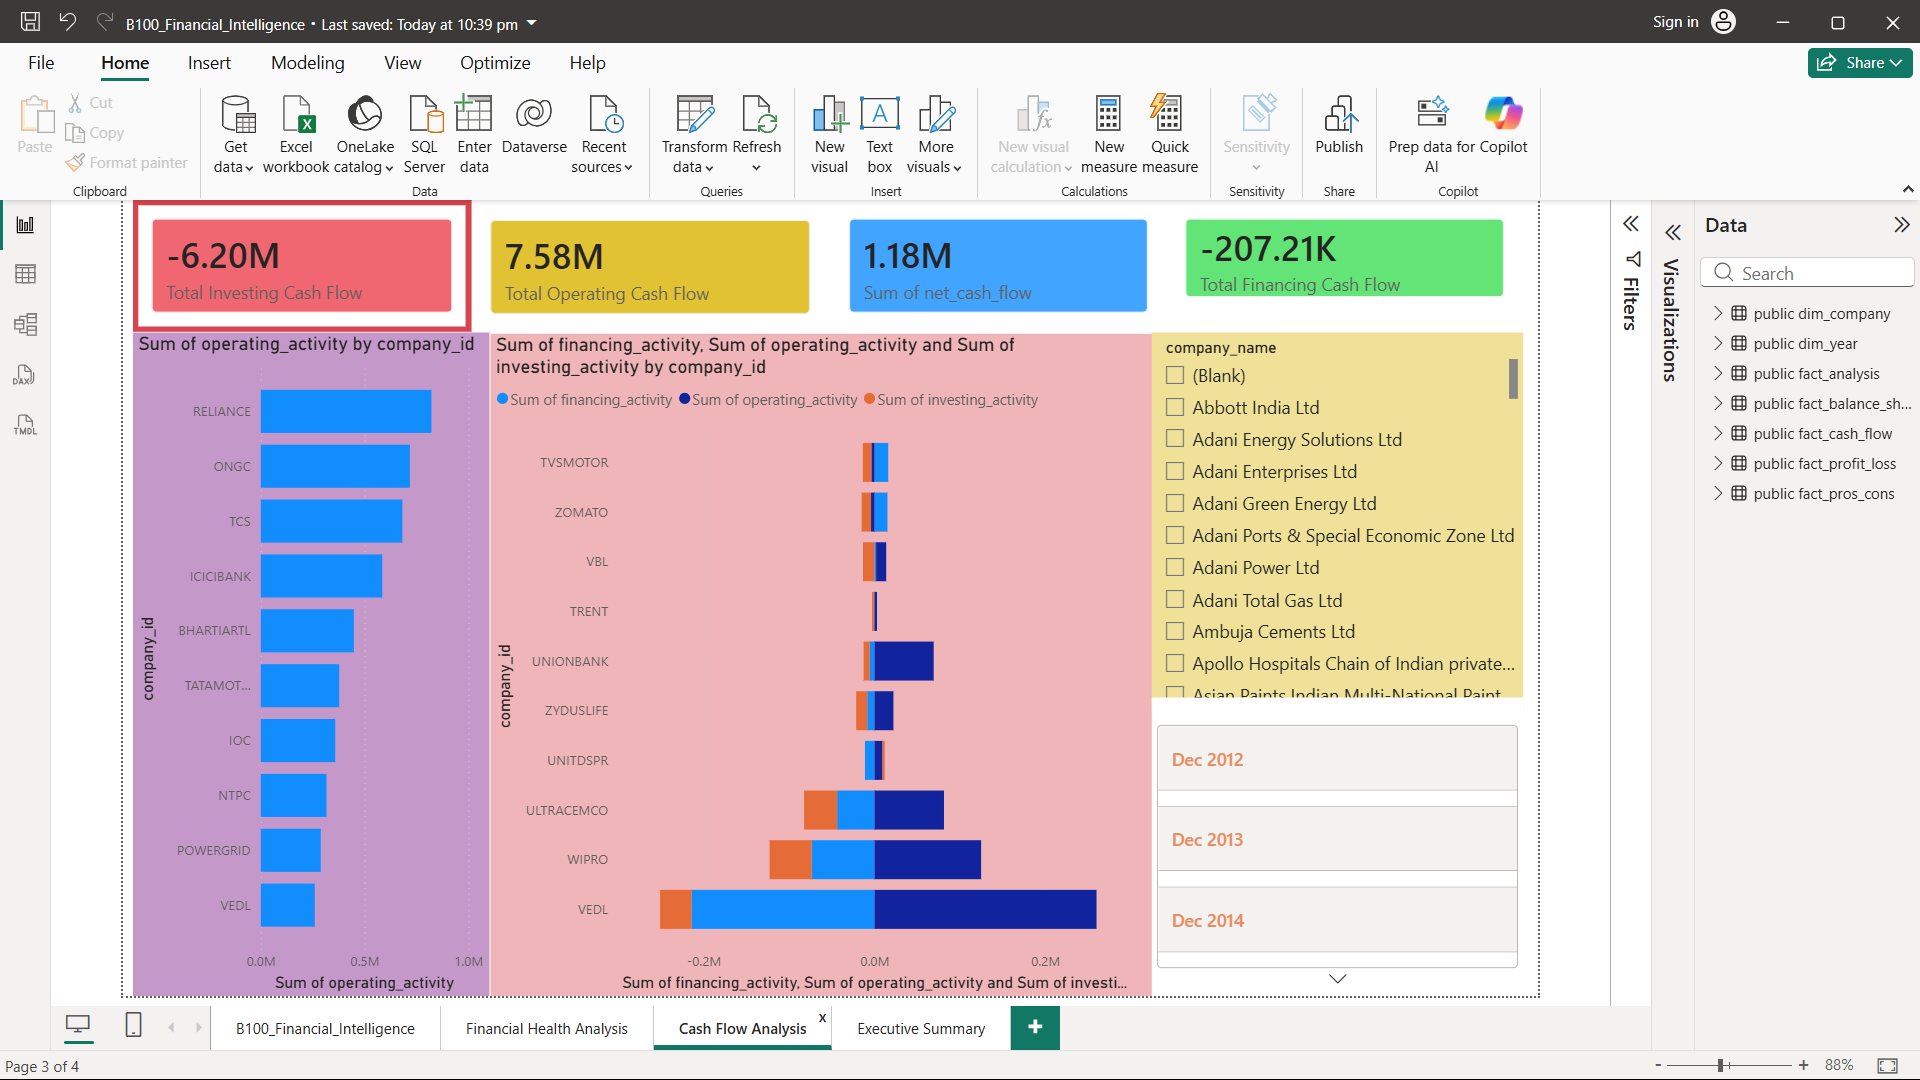

The page's visual inventory and layout, read from the dashboard file:
{"tool":"powerbi","page":{"name":"Cash Flow Analysis","canvas":[1280,720],"ordinal":2},"visuals":[{"type":"cardVisual","fields":{"Data":["public fact_cash_flow.Total Investing Cash Flow"]},"box":[9.6,0,306,119.4],"z":0},{"type":"cardVisual","fields":{"Data":["public fact_cash_flow.Total Financing Cash Flow"]},"box":[944.1,0,322.5,105.7],"z":1000},{"type":"cardVisual","fields":{"Data":["Sum(public fact_cash_flow.net_cash_flow)"]},"box":[639.5,0,304.6,119.4],"z":2000},{"type":"cardVisual","fields":{"Data":["public fact_cash_flow.Total Operating Cash Flow"]},"box":[315.6,1.4,323.8,119.4],"z":3000},{"type":"clusteredBarChart","fields":{"Category":["public fact_cash_flow.company_id"],"Y":["Sum(public fact_cash_flow.operating_activity)"]},"box":[9.6,119.4,322.5,601],"z":4000},{"type":"barChart","fields":{"Category":["public fact_cash_flow.company_id"],"Y":["Sum(public fact_cash_flow.financing_activity)","Sum(public fact_cash_flow.operating_activity)","Sum(public fact_cash_flow.investing_activity)"]},"box":[332.1,120.8,598.3,599.7],"z":5000},{"type":"slicer","fields":{"Values":["public dim_company.company_name"]},"box":[930.4,119.4,336.2,341.7],"z":6000},{"type":"cardVisual","fields":{"Rows":["public dim_year.year_label"]},"box":[930.4,450.1,336.2,270.3],"z":7000}]}

Visuals, with their boxes on the page's 1280x720 design canvas (x1, y1, x2, y2). These are canvas units, not pixel positions in the 1920x1080 screenshot, which may show the page scaled, cropped or inside an application window:
cardVisual - public fact_cash_flow.Total Investing Cash Flow: detection(10, 0, 316, 119)
cardVisual - public fact_cash_flow.Total Financing Cash Flow: detection(944, 0, 1267, 106)
cardVisual - Sum(public fact_cash_flow.net_cash_flow): detection(640, 0, 944, 119)
cardVisual - public fact_cash_flow.Total Operating Cash Flow: detection(316, 1, 639, 121)
clusteredBarChart - public fact_cash_flow.company_id x Sum(public fact_cash_flow.operating_activity): detection(10, 119, 332, 720)
barChart - public fact_cash_flow.company_id x Sum(public fact_cash_flow.financing_activity): detection(332, 121, 930, 720)
slicer - public dim_company.company_name: detection(930, 119, 1267, 461)
cardVisual - public dim_year.year_label: detection(930, 450, 1267, 720)
